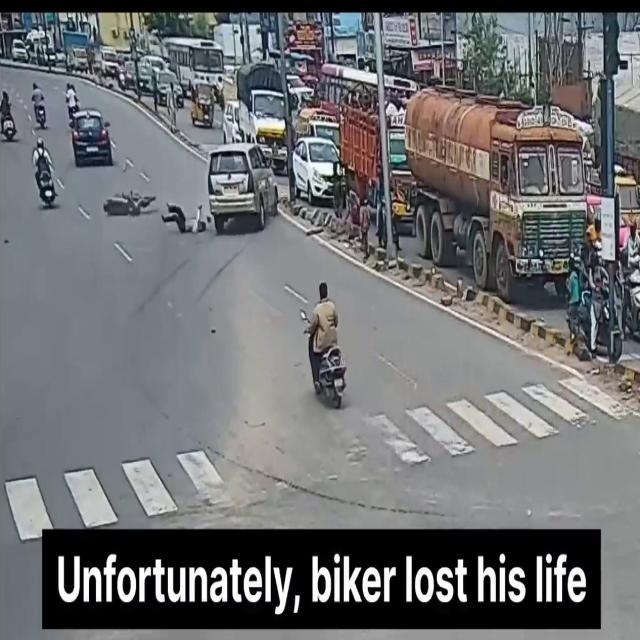accident: (160, 137, 284, 251), (99, 177, 161, 228)
non_accident: (400, 81, 640, 361), (0, 5, 207, 115), (291, 56, 399, 248), (206, 50, 287, 178)
